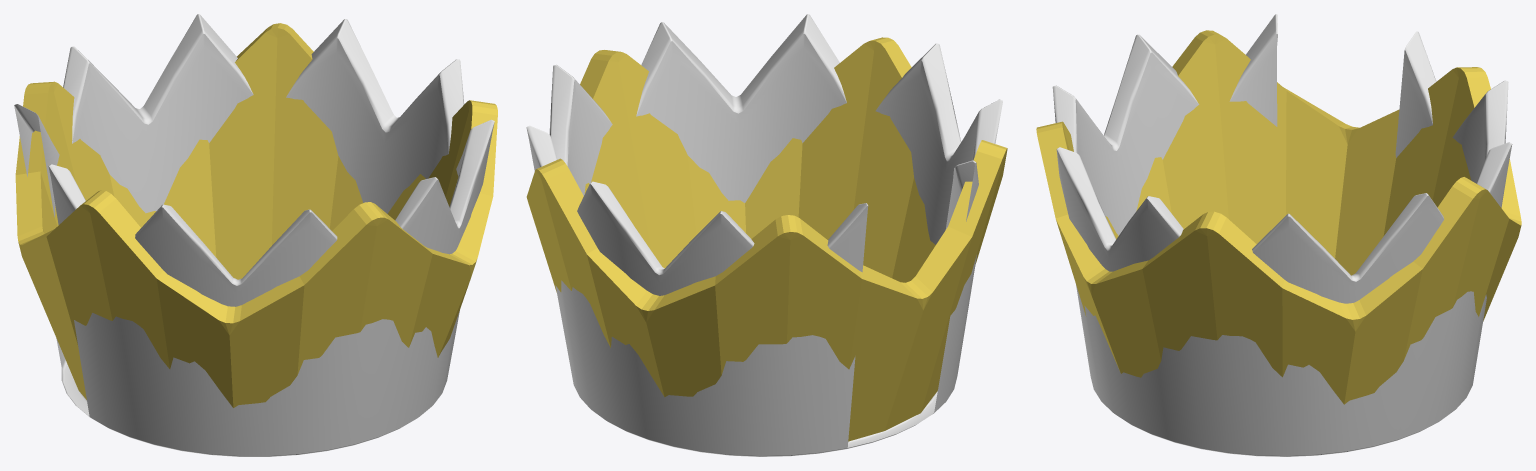
The model's file is crownOfSrki.fbx.
3 views of the same model, side by side, from view 1: azimuth 30°, elevation 25°; view 2: azimuth 150°, elevation 25°; view 3: azimuth 270°, elevation 25° (orthographic).
Parts seen in each view (by area): view 1: PRP_Crown_MO, Cylinder; view 2: Cylinder, PRP_Crown_MO; view 3: Cylinder, PRP_Crown_MO.
Boxes of the visible parts, <box> form: PRP_Crown_MO: <box>14,14,494,456</box>; Cylinder: <box>15,23,497,407</box>; Cylinder: <box>526,37,1007,441</box>; PRP_Crown_MO: <box>526,14,1002,456</box>; Cylinder: <box>1036,30,1521,404</box>; PRP_Crown_MO: <box>1052,14,1512,456</box>.
Bounding box in the file's own units: 26.78 × 16.26 × 27.14.
